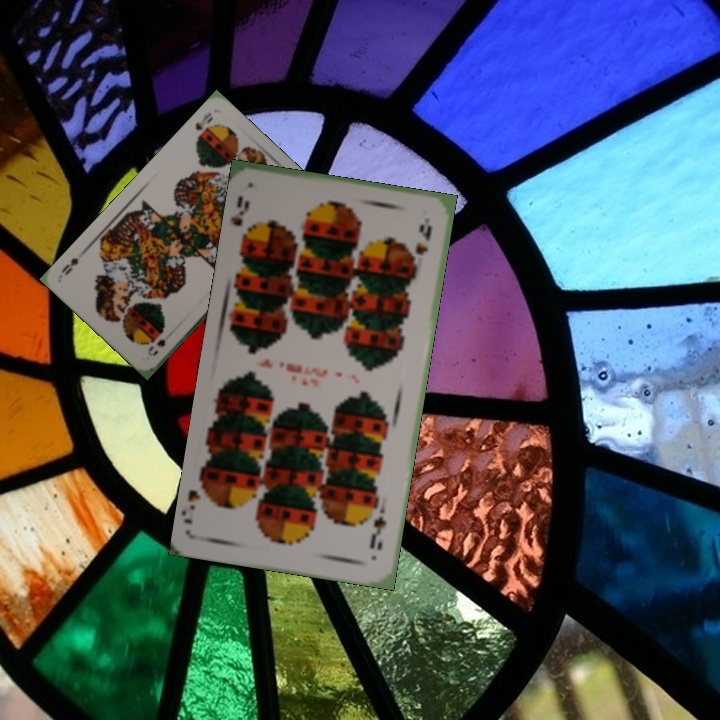S9: (228, 191, 256, 246), (366, 512, 389, 553)
SO: (191, 108, 215, 142), (143, 335, 168, 359)
